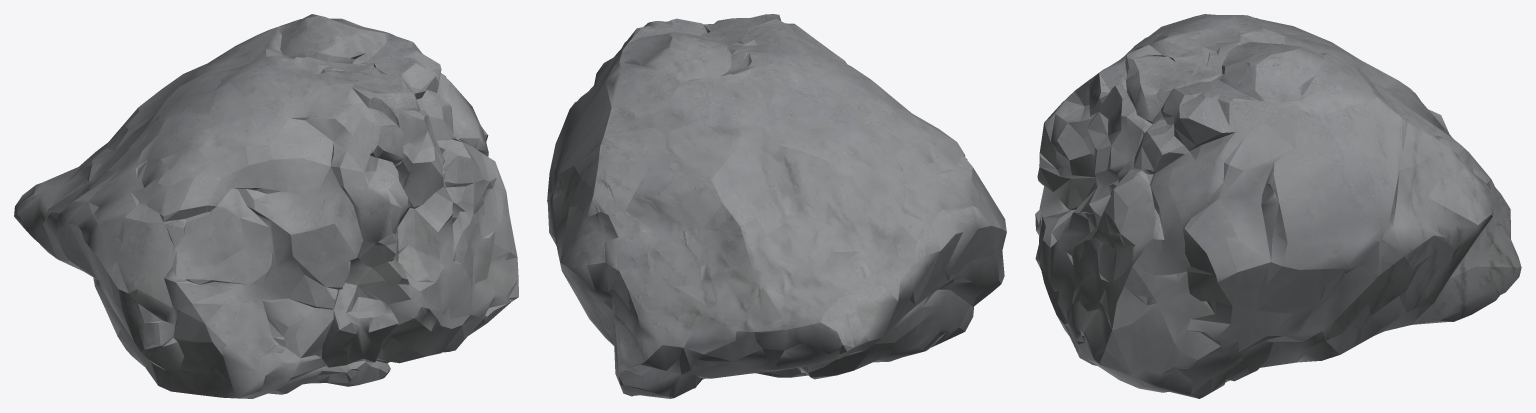
File: limestone_block.glb
3 renders of one model, left to right at view 1: azimuth 30°, elevation 25°; view 2: azimuth 150°, elevation 25°; view 3: azimuth 270°, elevation 25°, orthographic. The views are drawn at different scales.
Size of the model in its own units: 1.9 by 1.35 by 1.87.
1 material, 1 textured.
